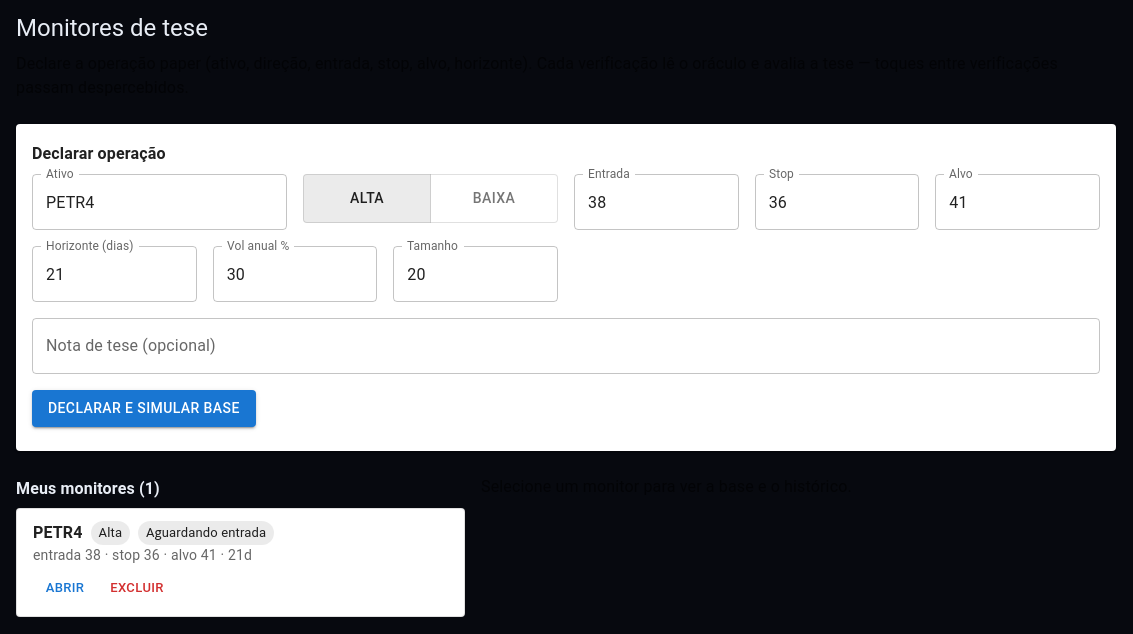
Test case: MonitorPage › lists monitors and opens the detail with baseline
Expected: the text "PETR4" is shown, [33,521,82,545]
Expected: the text "Aguardando entrada" is shown, [138,523,274,543]
Click the button "Abrir" at coordinates (65, 588), box [33,573,97,604]
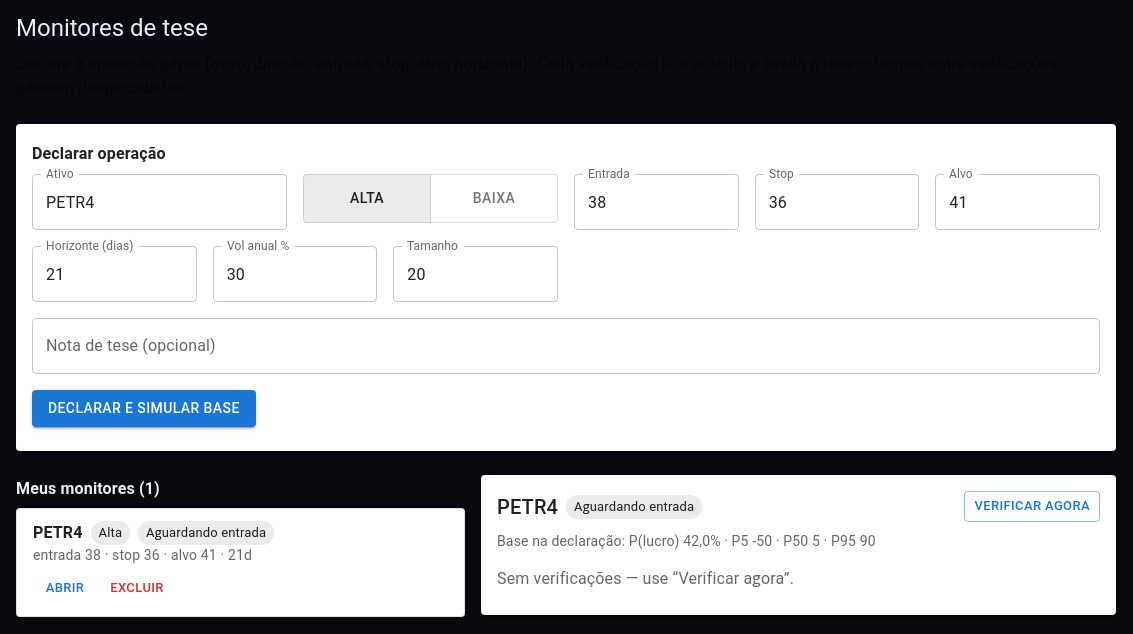
Expected: the text "Base na declaração: P(lucro) 42,0% · P5 -50 · P50 5 · P95 90" is shown, [497,532,876,548]
